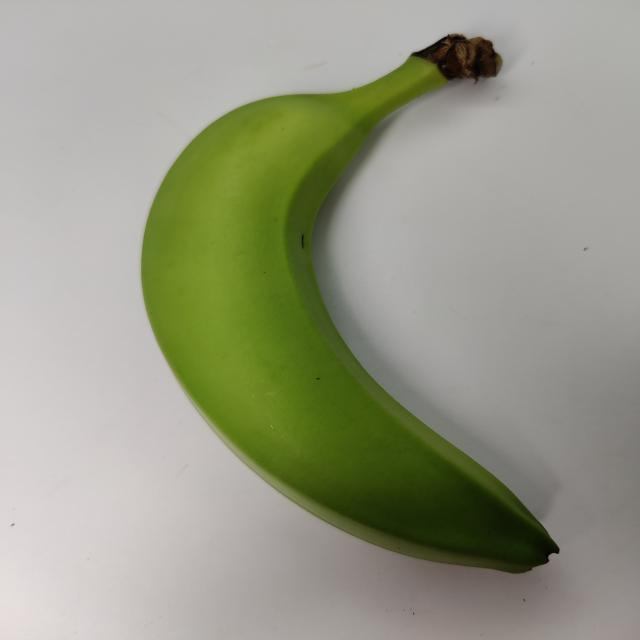raw: (128, 29, 600, 578)
